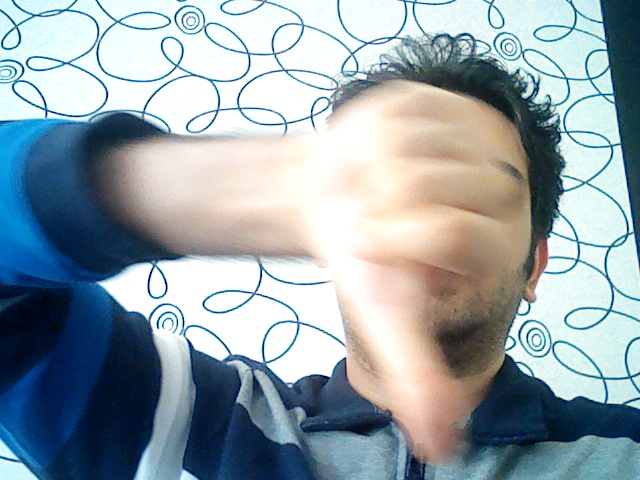ThumbsDown: (262, 77, 522, 468)
